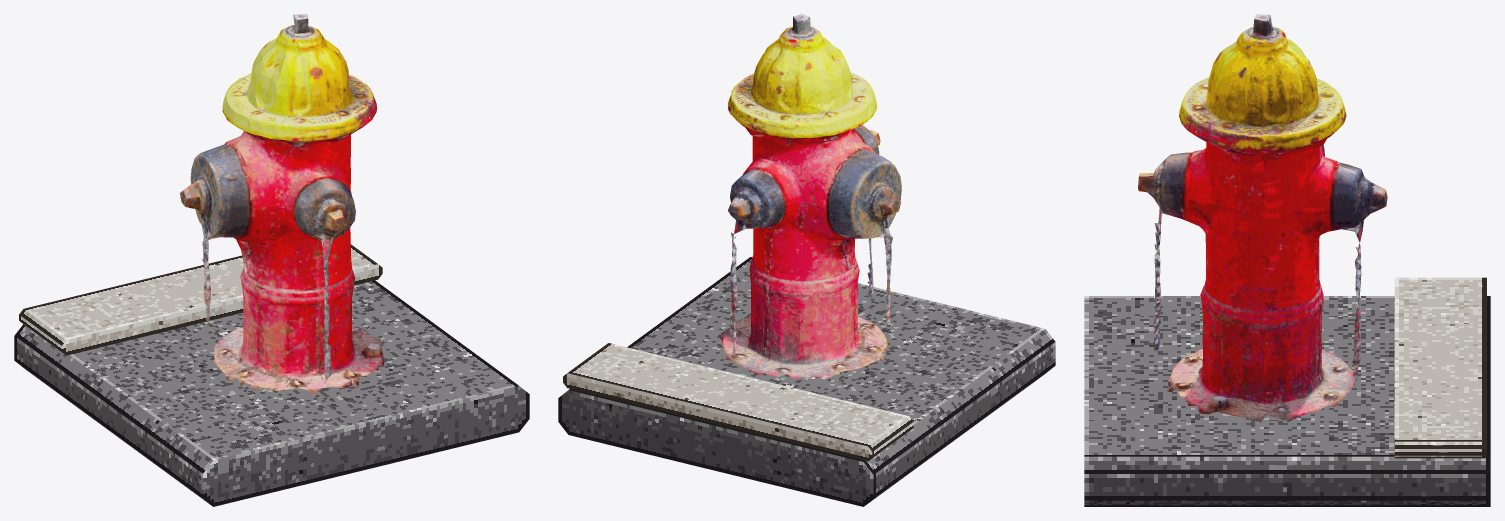
The model's file is shokasen.glb.
The picture shows the model from 3 angles, left to right: view 1: azimuth 30°, elevation 25°; view 2: azimuth 150°, elevation 25°; view 3: azimuth 270°, elevation 25°; orthographic projection. The views are drawn at different scales.
Parts seen in each view (by area): view 1: base, model_m, kerb; view 2: model_m, base, kerb; view 3: model_m, base, kerb.
Boxes of the visible parts, x1,y1,x2,y2 form: base: (14, 280, 529, 506); model_m: (180, 14, 384, 395); kerb: (19, 244, 382, 355); model_m: (718, 14, 901, 379); base: (558, 257, 1055, 506); kerb: (563, 343, 913, 461); model_m: (1138, 14, 1387, 422); base: (1084, 296, 1490, 506); kerb: (1394, 277, 1486, 458).
Bounding box in the file's own units: 22 × 25 × 22.
Materials: 2 (2 with a texture image).
